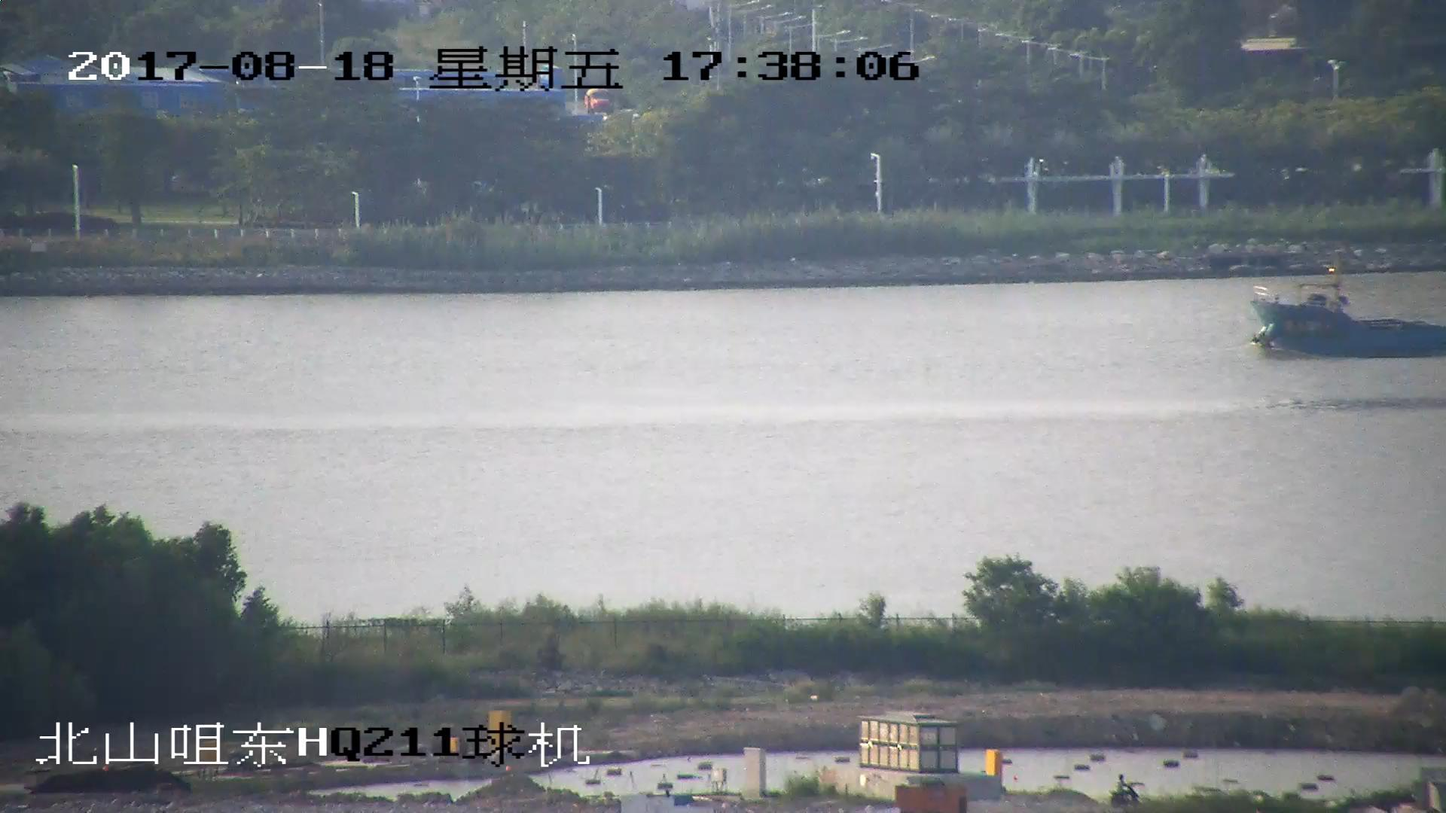general cargo ship: (1250, 261, 1445, 361)
